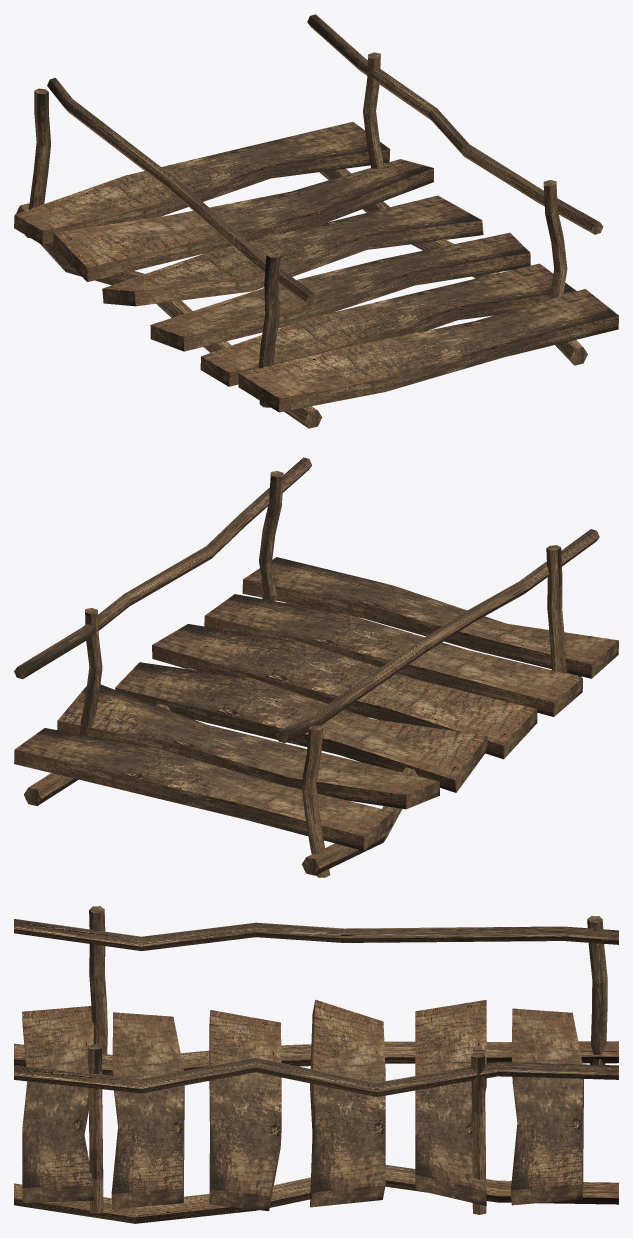
Rendered from old_bridge_short.fbx.
3 views of the same model, one above another, from view 1: azimuth 30°, elevation 25°; view 2: azimuth 150°, elevation 25°; view 3: azimuth 270°, elevation 25° (orthographic). The views are drawn at different scales.
Parts seen in each view (by area): view 1: bridge; view 2: bridge; view 3: bridge.
Part boxes in pixels (x1,y1,x2,y2): bridge: [14, 14, 618, 428]; bridge: [14, 457, 618, 877]; bridge: [14, 906, 618, 1223].
Bounding box in the file's own units: 384 × 165 × 534.
1 material, 1 textured.
